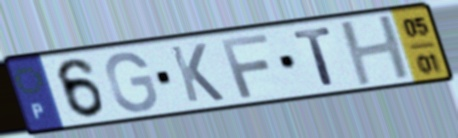6: (54, 56, 108, 120)
F: (218, 31, 272, 100)
G: (102, 50, 161, 114)
H: (336, 12, 415, 89)
K: (166, 41, 228, 105)
T: (290, 24, 338, 88)
